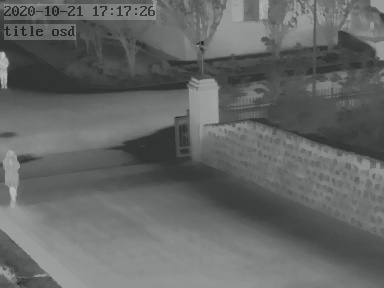person: (3, 147, 22, 206), (1, 50, 10, 91)
